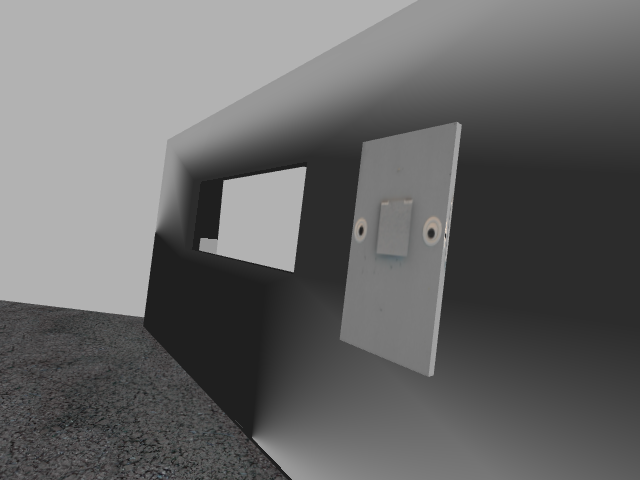facade: (349, 194, 443, 259)
